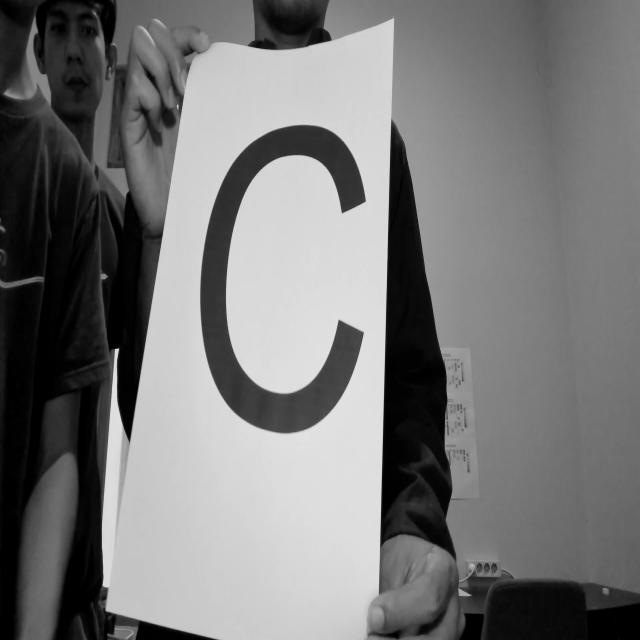c: (191, 108, 374, 442)
